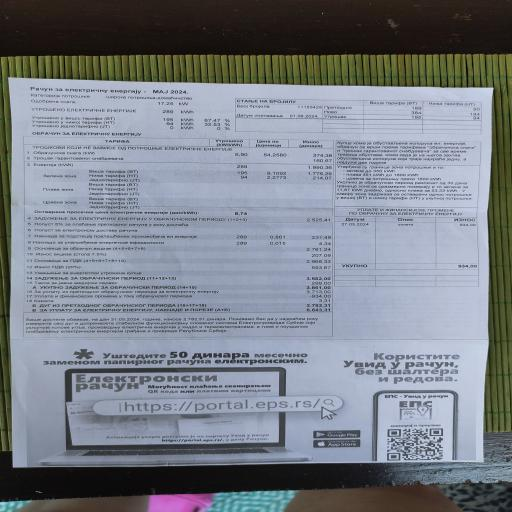racun_za_struju: (19, 130, 334, 223)
